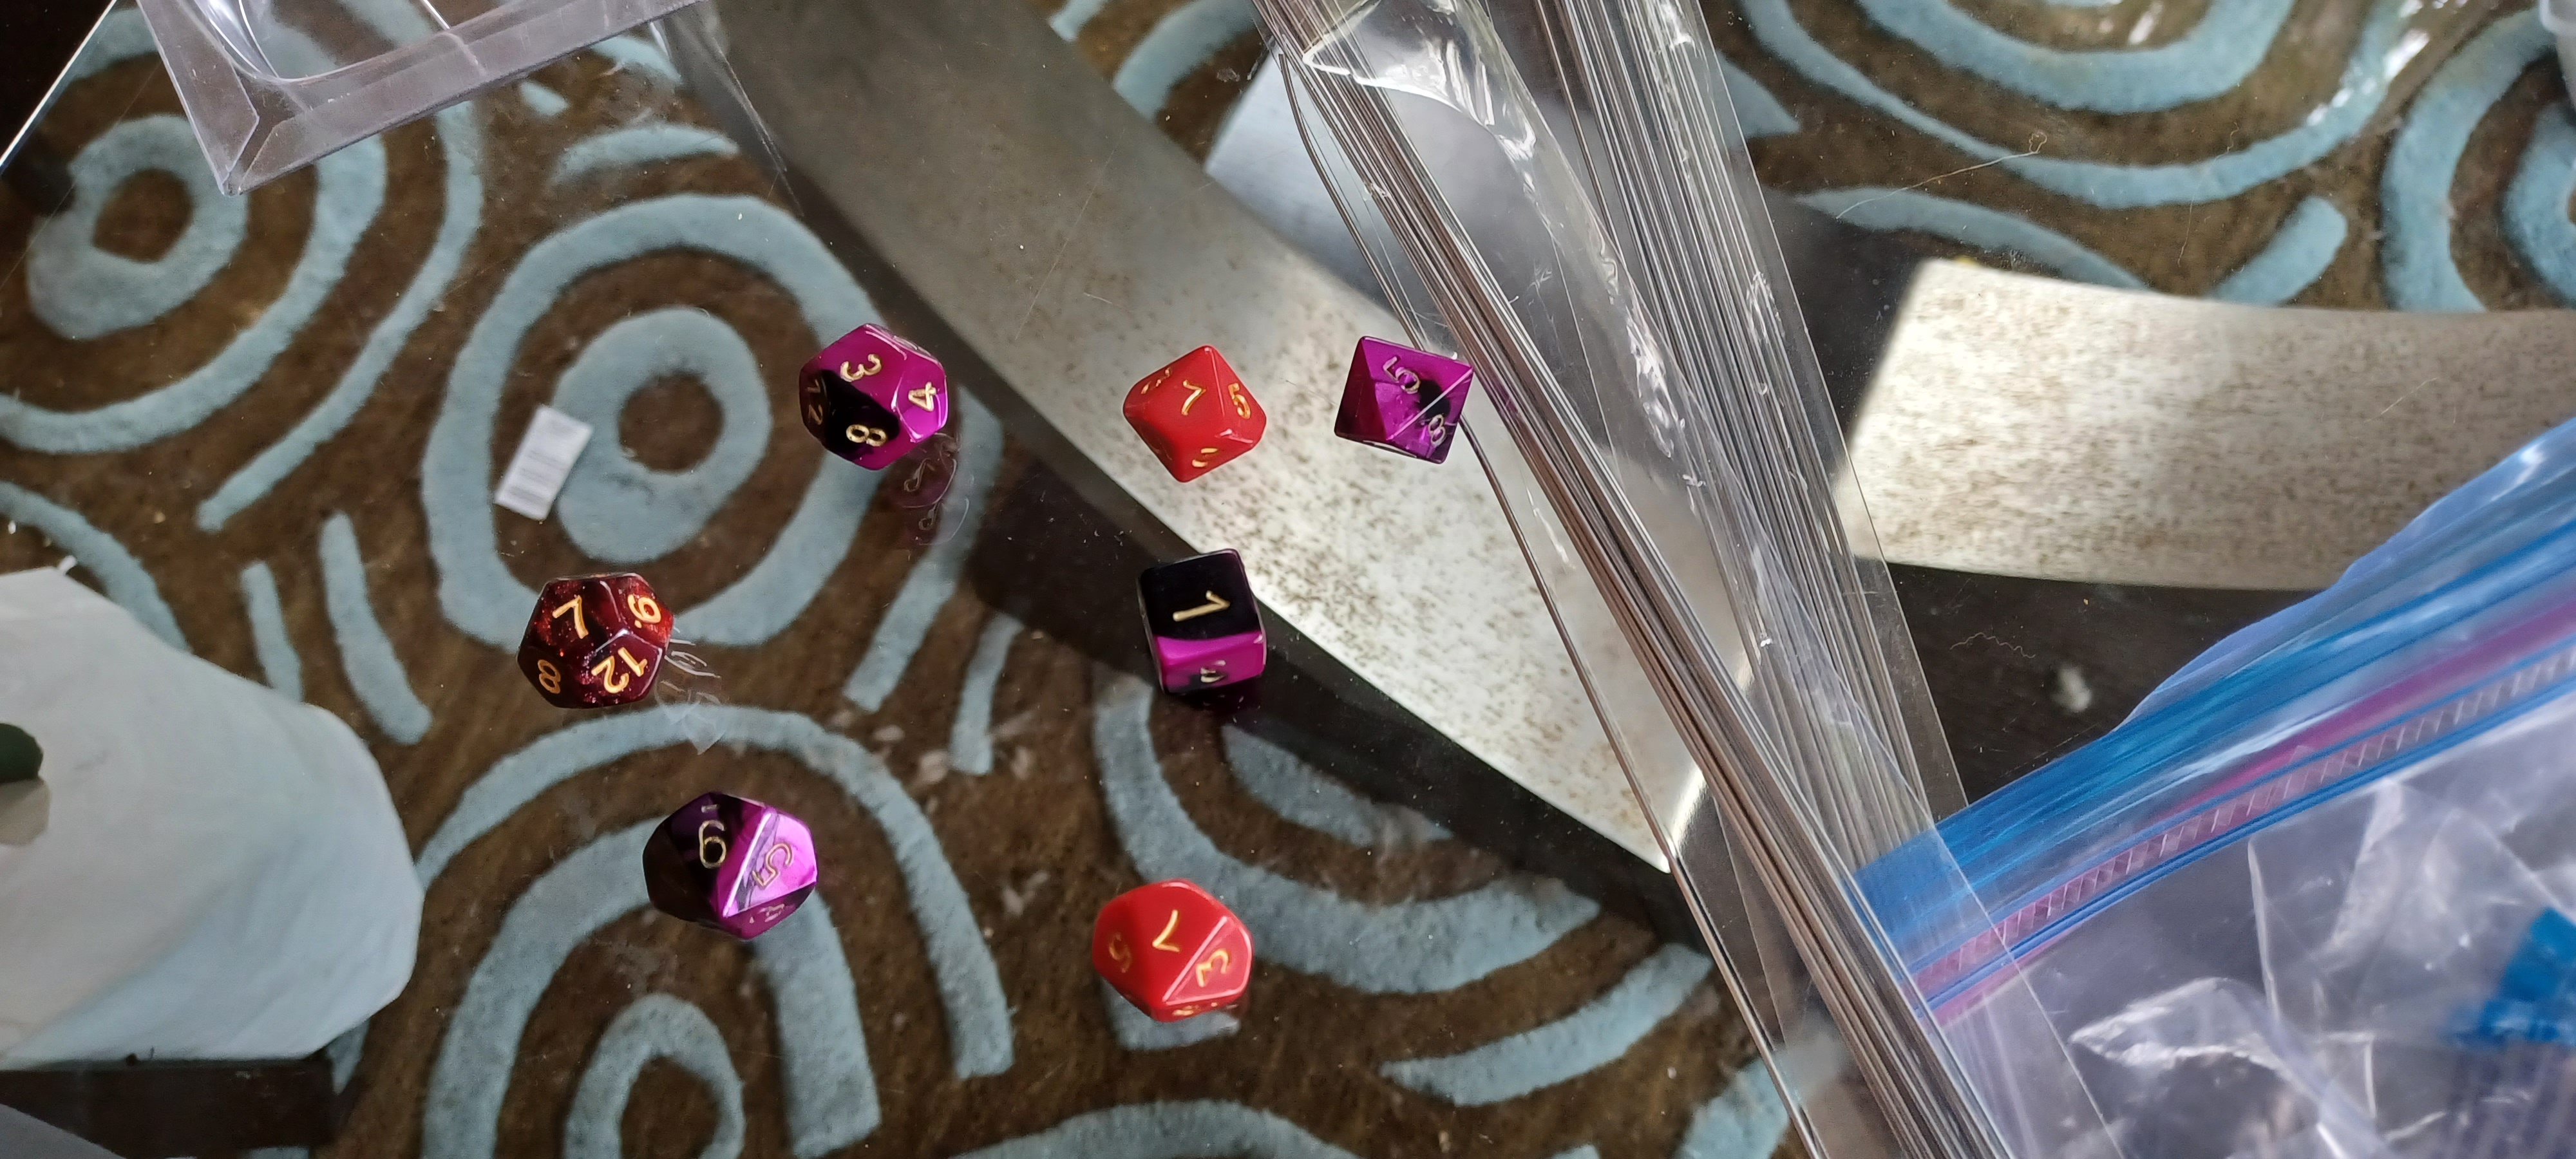five: (1316, 307, 1503, 484)
nine: (621, 765, 846, 957)
one: (1102, 529, 1295, 699)
seven: (1078, 860, 1276, 1039), (498, 545, 692, 724), (1115, 327, 1281, 496)
three: (785, 302, 977, 476)
